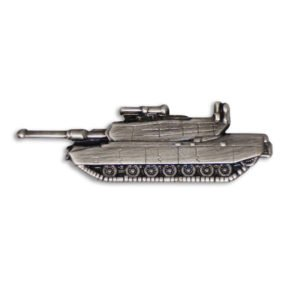Battle Tank: (17, 104, 273, 184)
